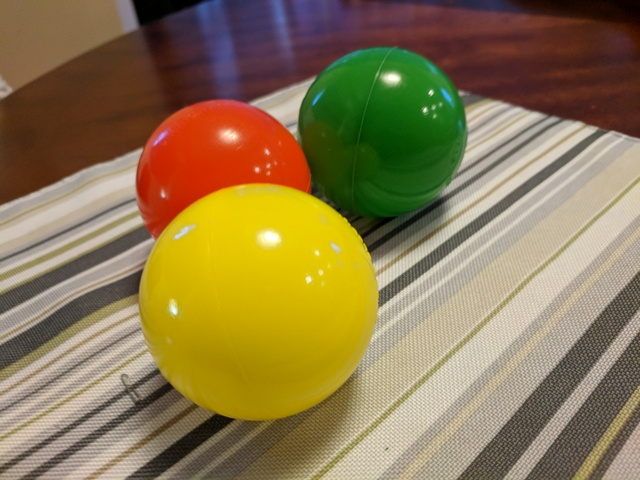ball: (141, 184, 383, 420)
